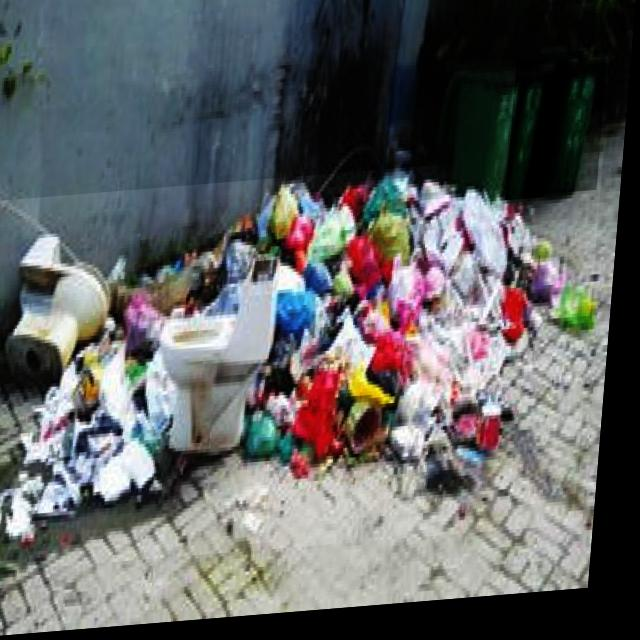garbage: (0, 162, 607, 575)
garbage_bin: (534, 60, 610, 205), (450, 69, 522, 203), (509, 67, 557, 209)
